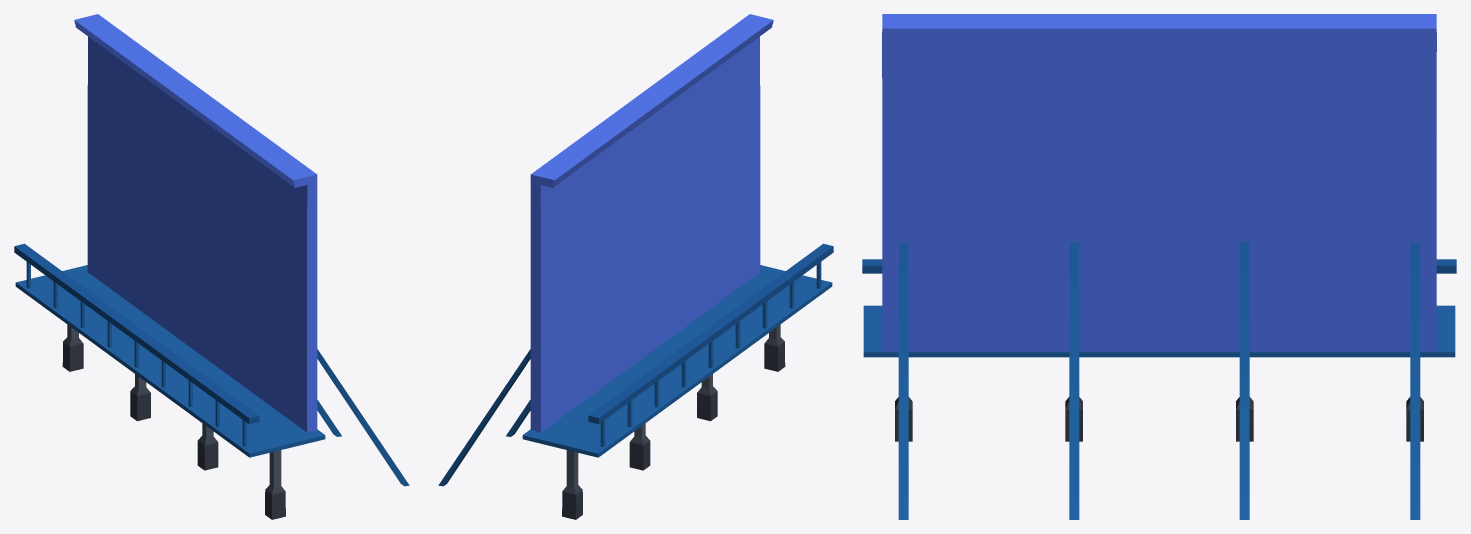
The model's file is Bilboard_1_B.fbx.
3 renders of one model, left to right at view 1: azimuth 30°, elevation 25°; view 2: azimuth 150°, elevation 25°; view 3: azimuth 270°, elevation 25°, orthographic. The views are drawn at different scales.
Parts seen in each view (by area): view 1: Bilboard_1_B; view 2: Bilboard_1_B; view 3: Bilboard_1_B.
Boxes of the visible parts, x1,y1,x2,y2 form: Bilboard_1_B: (14,14,409,519); Bilboard_1_B: (438,14,833,519); Bilboard_1_B: (862,14,1456,519).
Bounding box in the file's own units: 128 × 238 × 298.
